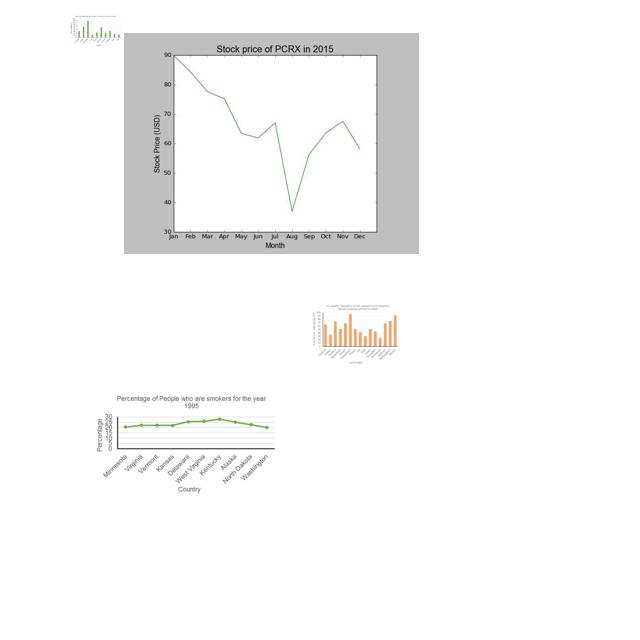Graph: (124, 33, 419, 254), (91, 391, 279, 496), (311, 303, 399, 365), (70, 15, 122, 47)
